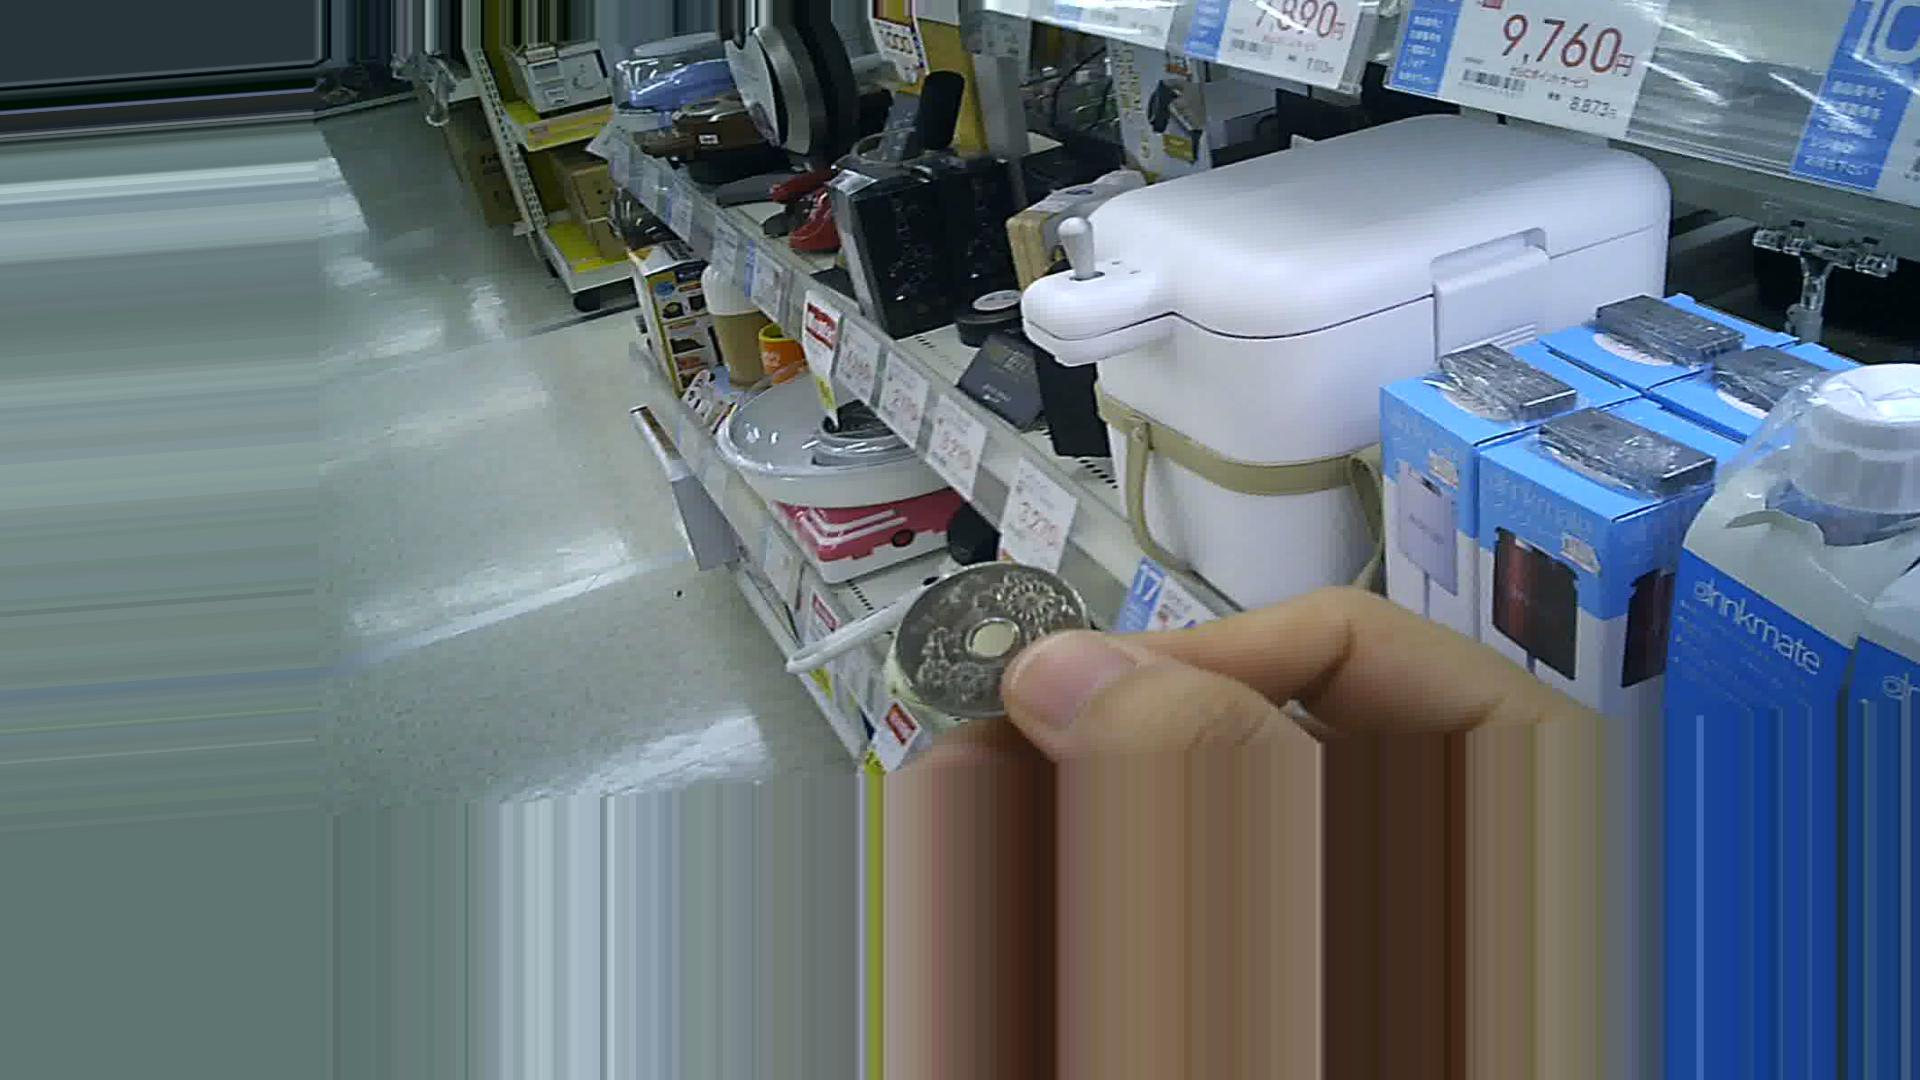50 Yen: (887, 547, 1101, 725)
